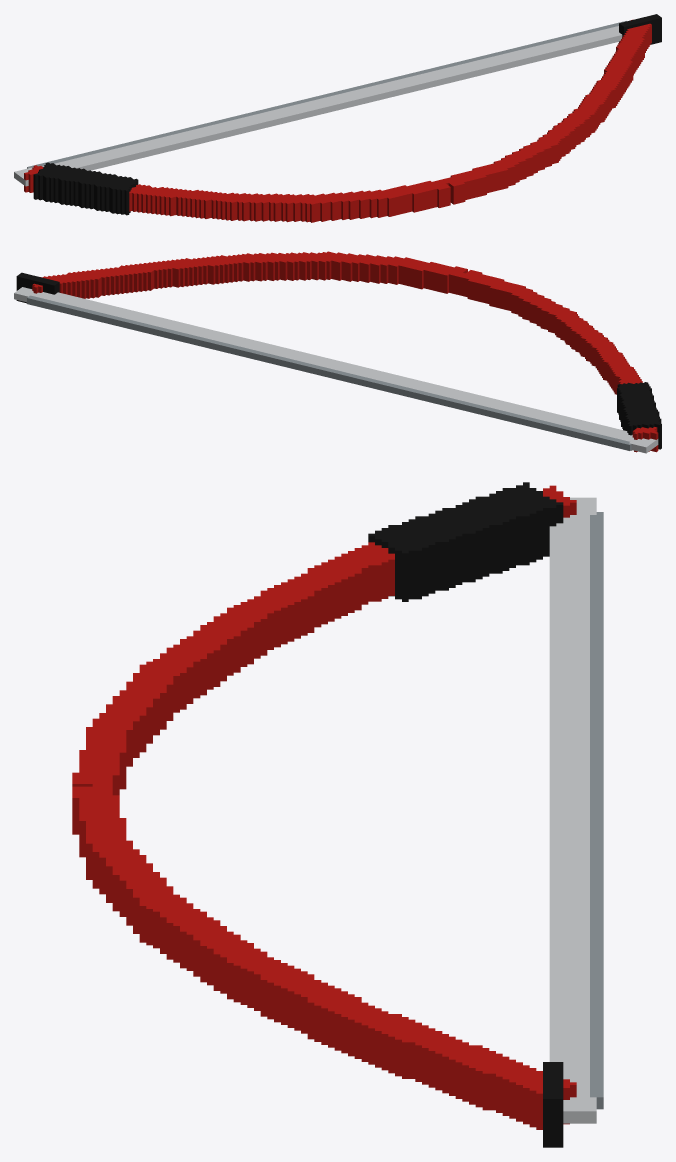
The model's file is bow_saw.glb.
3 views of the same model, one above another, from view 1: azimuth 30°, elevation 25°; view 2: azimuth 150°, elevation 25°; view 3: azimuth 270°, elevation 25° (orthographic). The views are drawn at different scales.
Parts seen in each view (by area): view 1: bow_saw:compound; view 2: bow_saw:compound; view 3: bow_saw:compound.
Part boxes in pixels (x1,y1,x2,y2): bow_saw:compound: [14, 14, 661, 222]; bow_saw:compound: [14, 251, 661, 453]; bow_saw:compound: [72, 482, 603, 1147].
Size of the model in its own units: 0.872 by 0.032 by 0.316.
